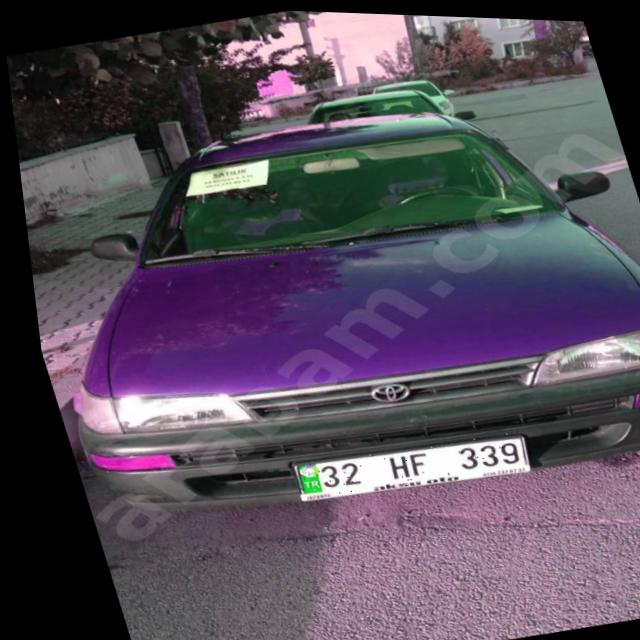license_plate: (277, 420, 521, 506)
